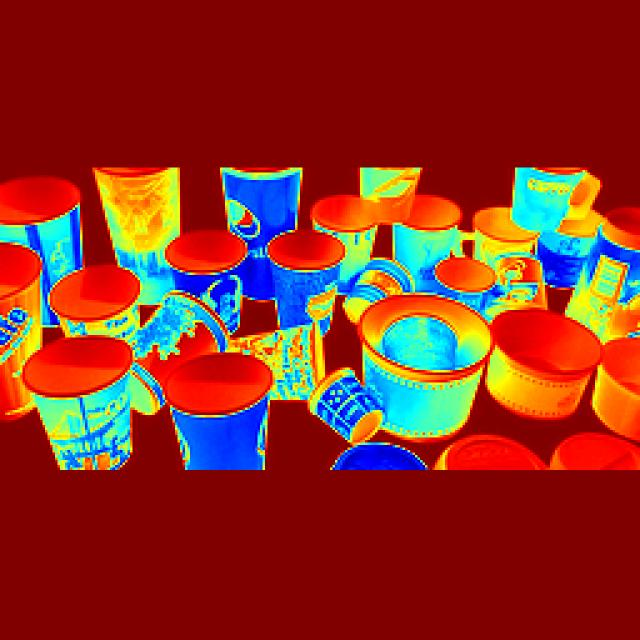Aluminium Food Cans: (217, 170, 309, 242)
Paper Cups: (352, 284, 483, 429), (142, 355, 276, 478), (21, 337, 146, 468), (477, 295, 604, 414), (236, 234, 360, 318), (42, 256, 156, 346), (120, 277, 233, 366), (436, 416, 551, 500), (89, 166, 178, 248), (170, 214, 248, 300), (9, 182, 97, 249), (477, 240, 554, 310), (585, 332, 640, 420), (579, 209, 640, 285), (569, 409, 628, 478), (523, 184, 583, 238), (478, 195, 530, 248)
